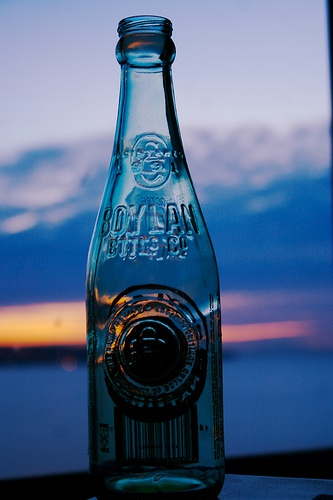emptybottle: (86, 15, 228, 500)
